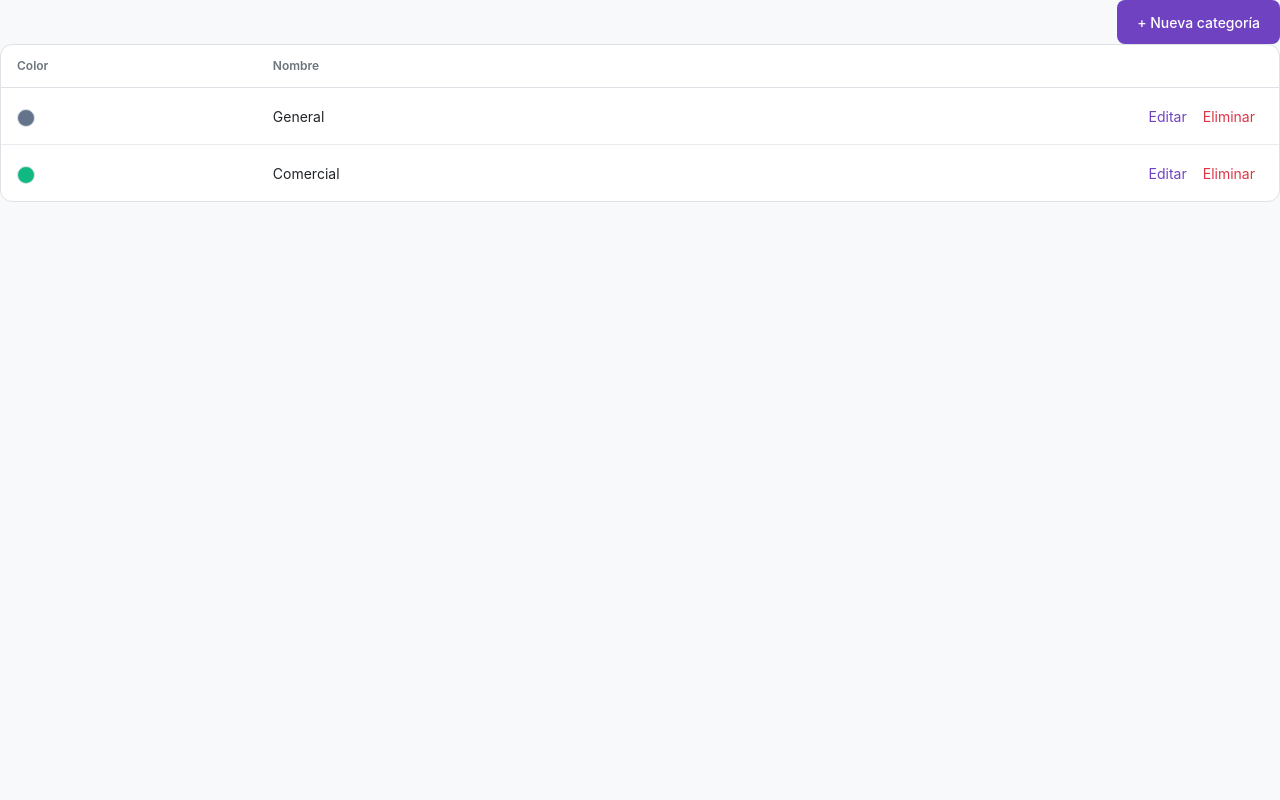
Test case: NewsCategoryModal — accessible shell (L1) › closes on Escape, same as NewsPostModal
Click the button "+ Nueva categoría" at {"x": 1199, "y": 22}, box [1117,0,1279,44]
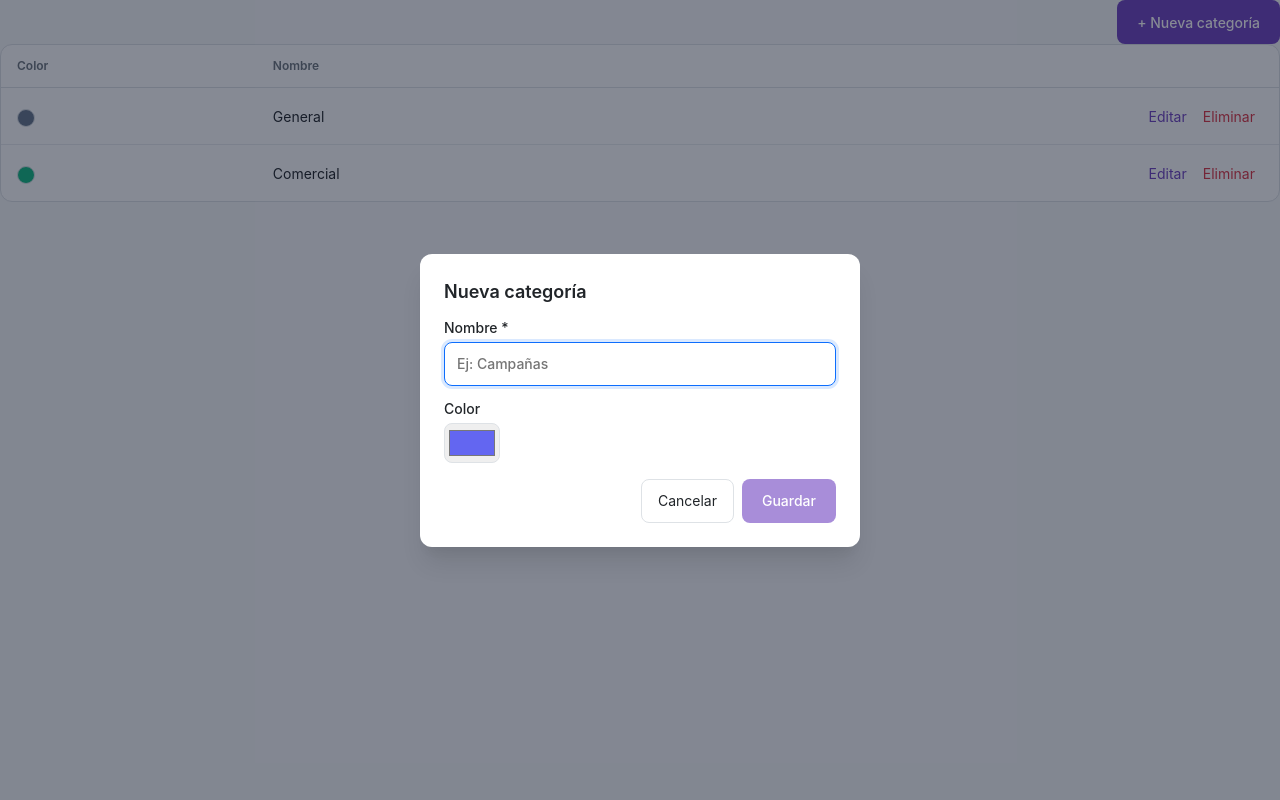
Check: the dialog is shown, box [420,254,860,546]
Press Escape
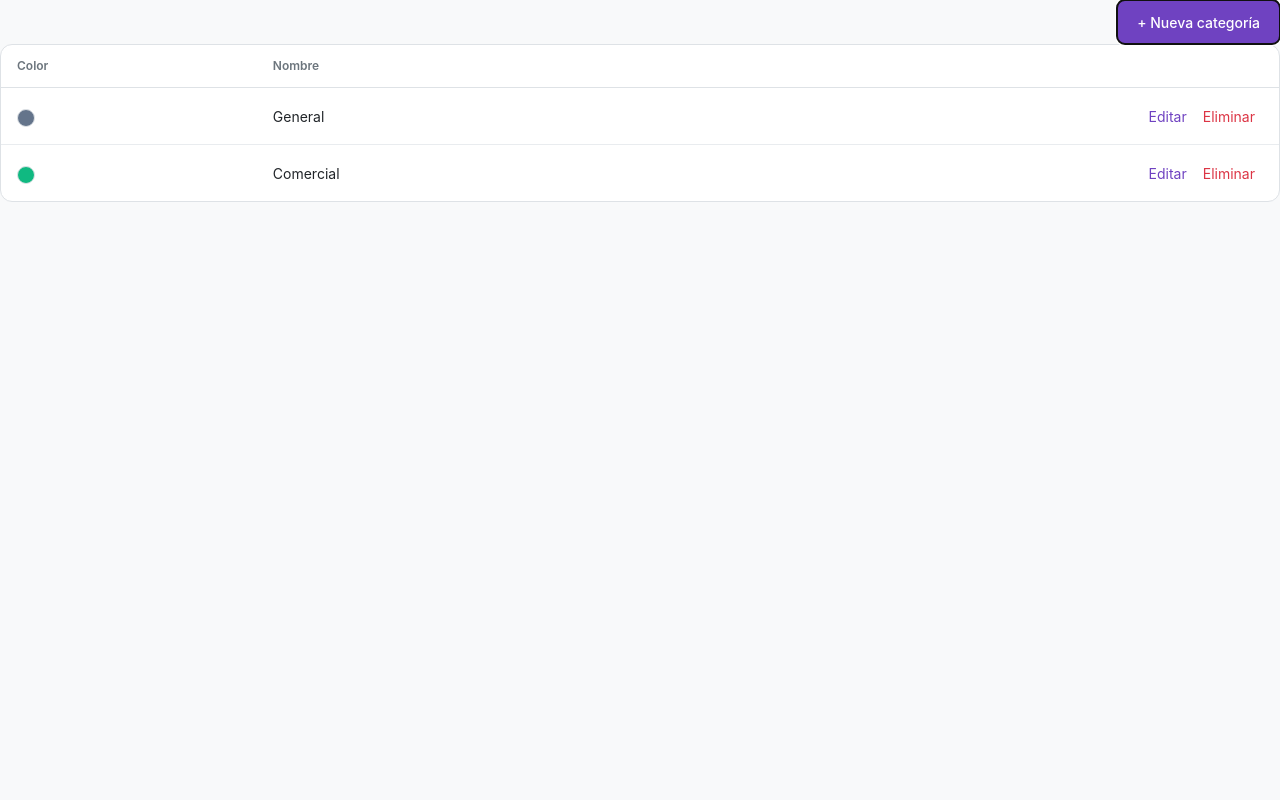
Check: the dialog is gone
